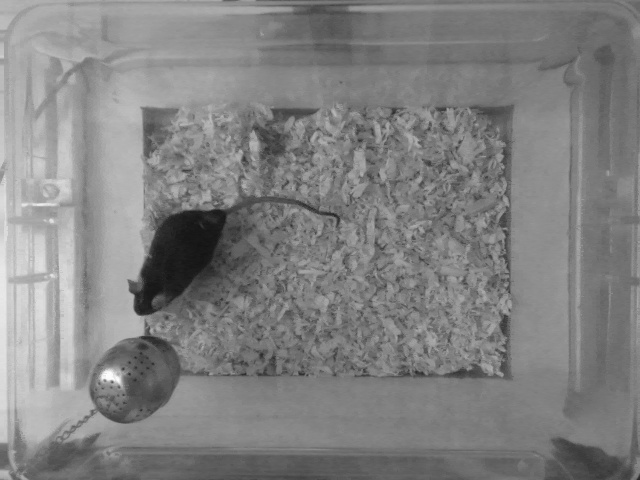mice: (125, 196, 346, 317)
